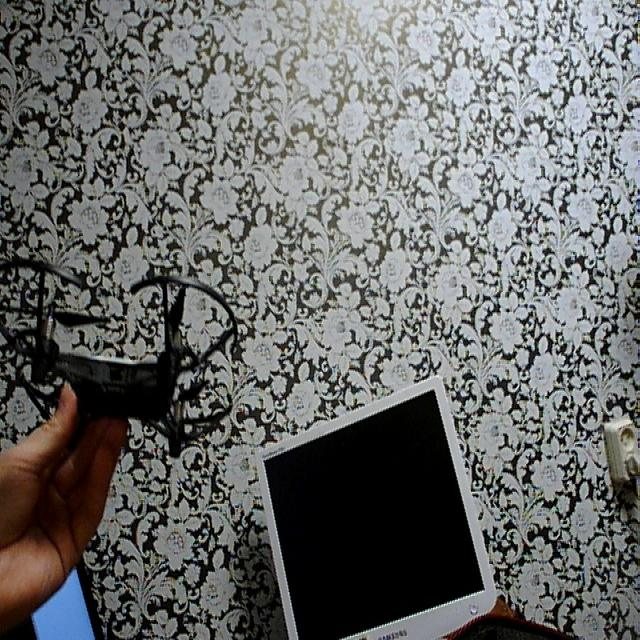drone: (2, 229, 245, 482)
